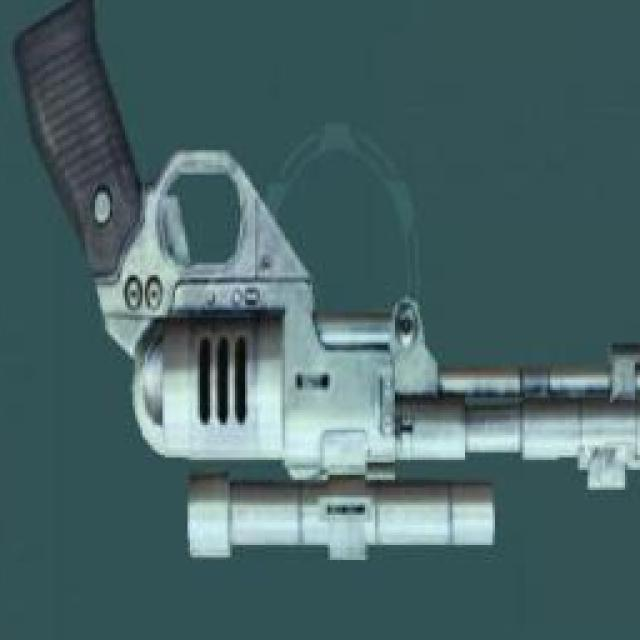pistol: (15, 0, 640, 618)
